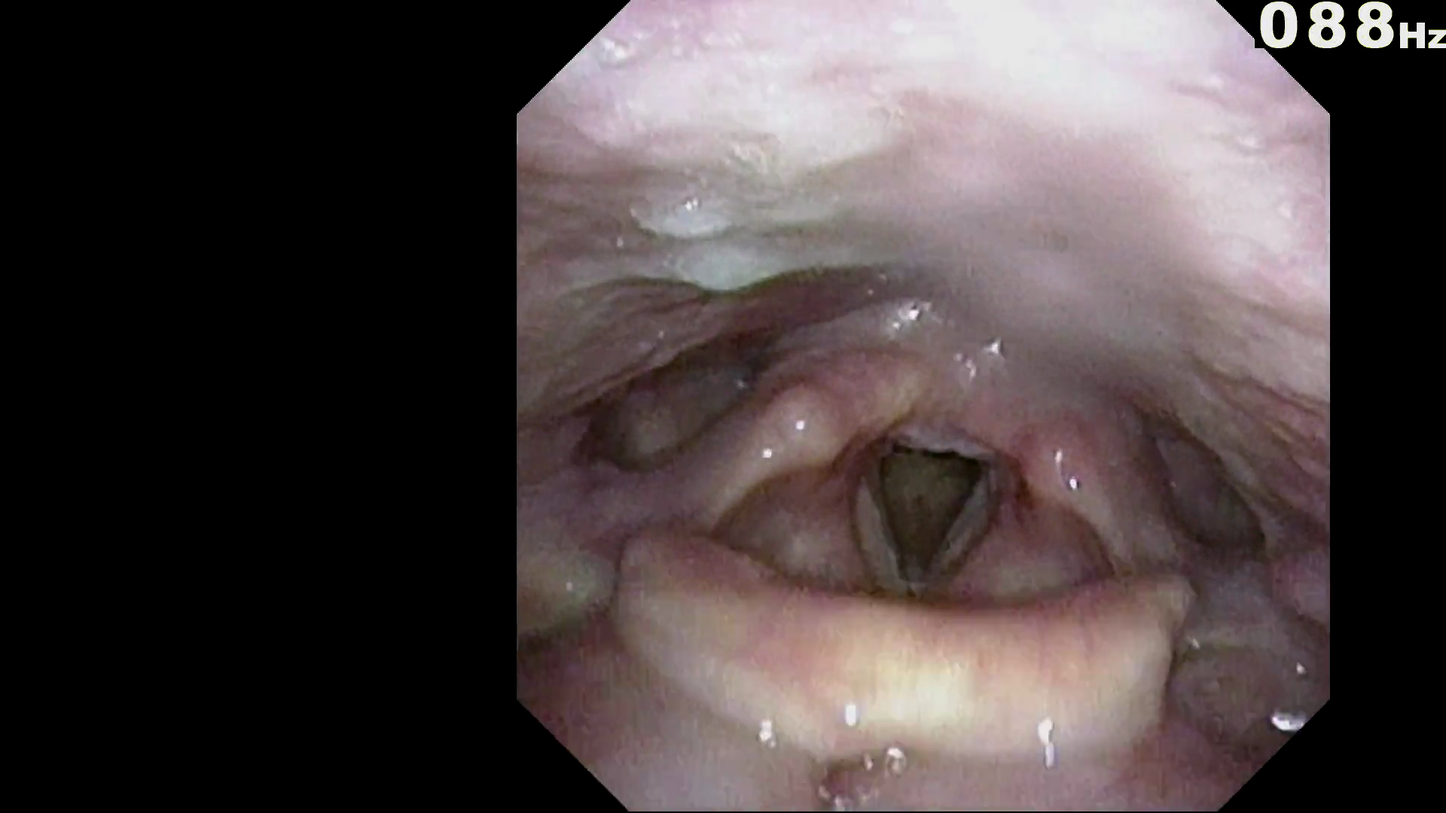epiglottis: (622, 551, 1181, 748)
trachea: (868, 428, 990, 597)
